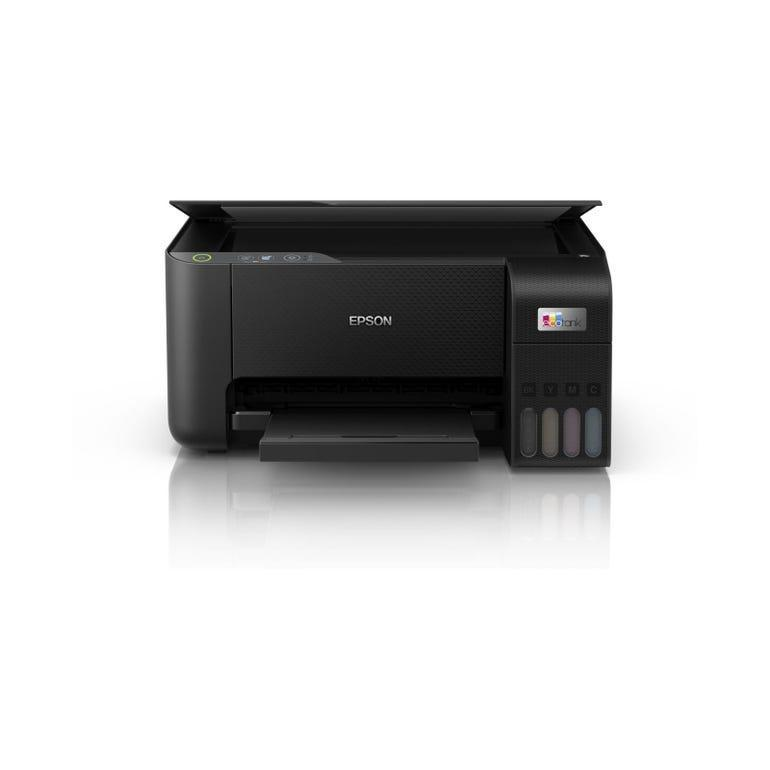Printer: (165, 197, 613, 468)
